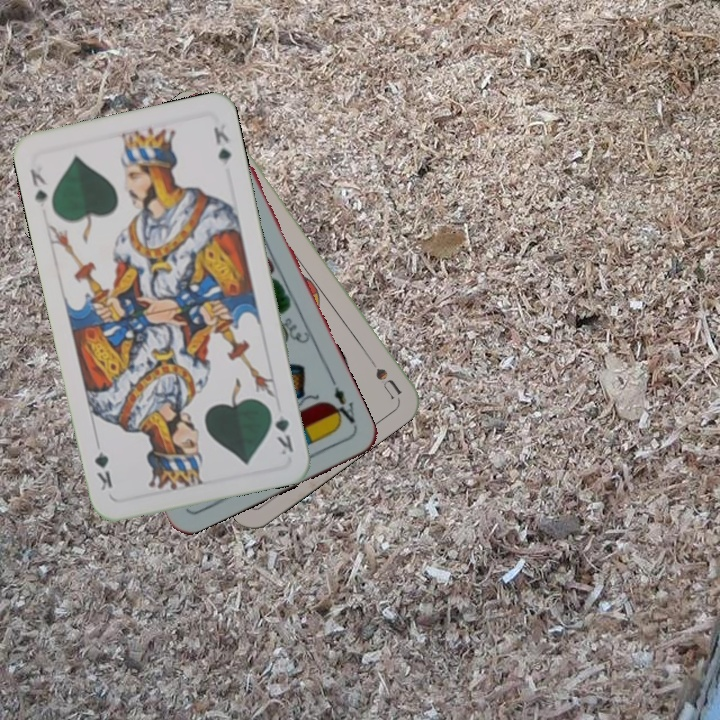EA: (325, 375, 359, 430)
GK: (265, 402, 296, 458), (26, 164, 51, 206)
SU: (371, 364, 404, 402)
